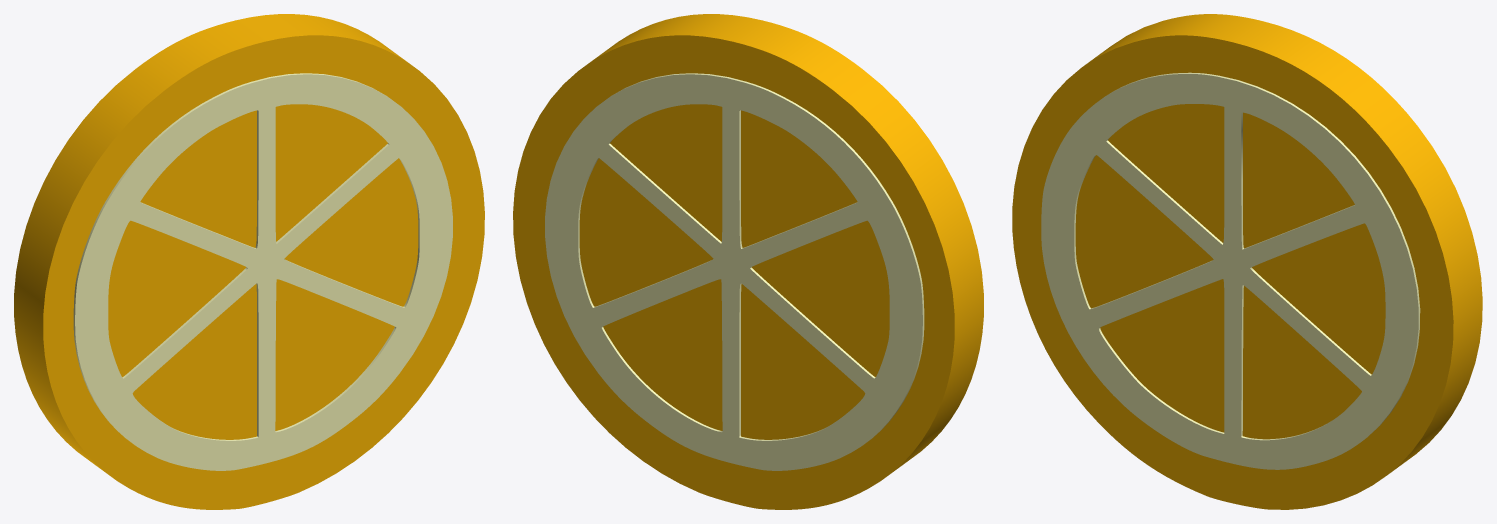
The model's file is orange.gltf.
3 renders of one model, left to right at view 1: azimuth 30°, elevation 25°; view 2: azimuth 150°, elevation 25°; view 3: azimuth 330°, elevation 25°, orthographic.
Parts seen in each view (by area): view 1: path5169, path5287; view 2: path5169, path5287; view 3: path5169, path5287.
Boxes of the visible parts, box(x1,y1,x2,y2) form: path5169: box(14, 14, 484, 509); path5287: box(73, 73, 452, 470); path5169: box(513, 14, 983, 509); path5287: box(545, 73, 924, 470); path5169: box(1012, 14, 1482, 509); path5287: box(1041, 72, 1420, 469).
Size of the model in its own units: 6.99 by 6.98 by 0.88.
